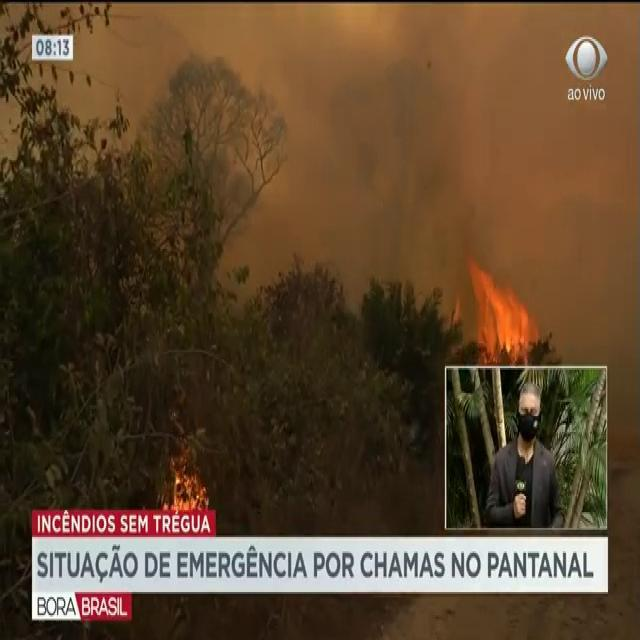Fire: (465, 252, 536, 366), (162, 458, 206, 511)
Smoke: (82, 9, 471, 302)
